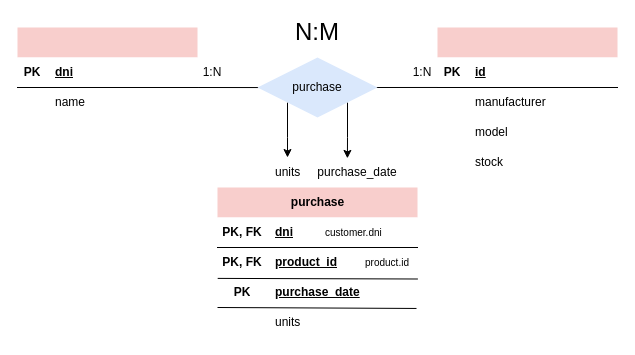
Some shapes in this 635 by 355 pixel diagram are drawn without their labels. The box of each missing label's shape, as (x1, y1, x2, y2) in pixels:
customer: (17, 27, 197, 117)
product: (437, 27, 617, 177)
